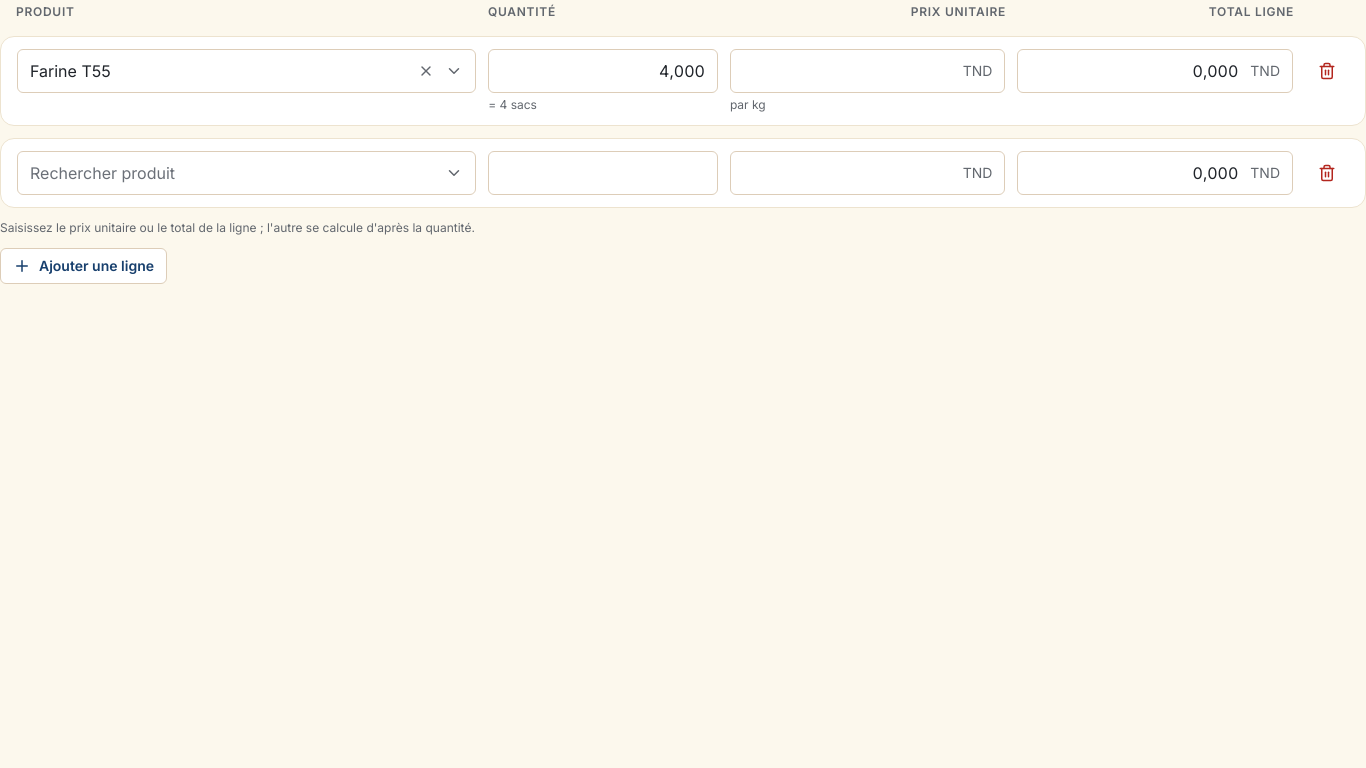
LineEditor › one line per item and hints (issue 016) › offers everything again when the document allows a repeated item
Click the dropdown named "Produit 2".
click(103, 173)  # box [17,151,476,195]
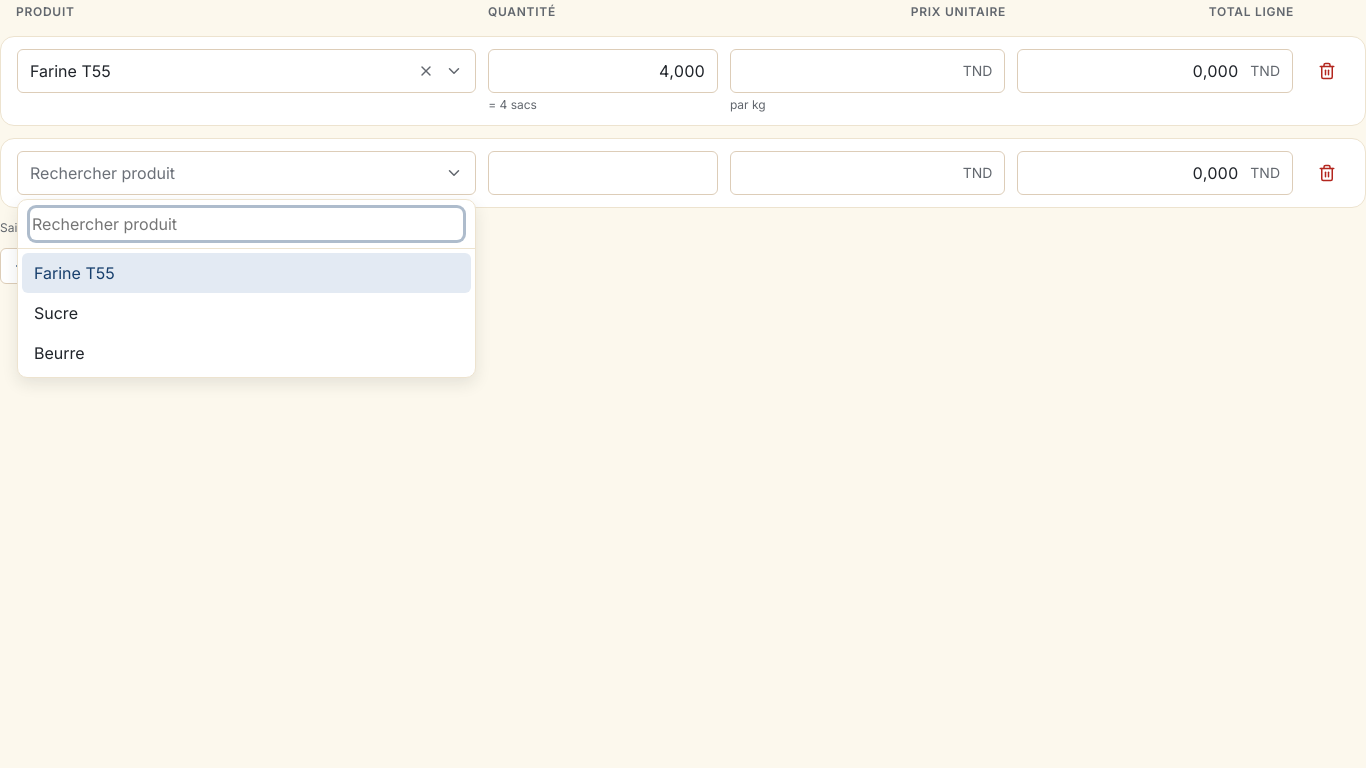
Expected: the option "Beurre" is shown, [34,343,85,363]
